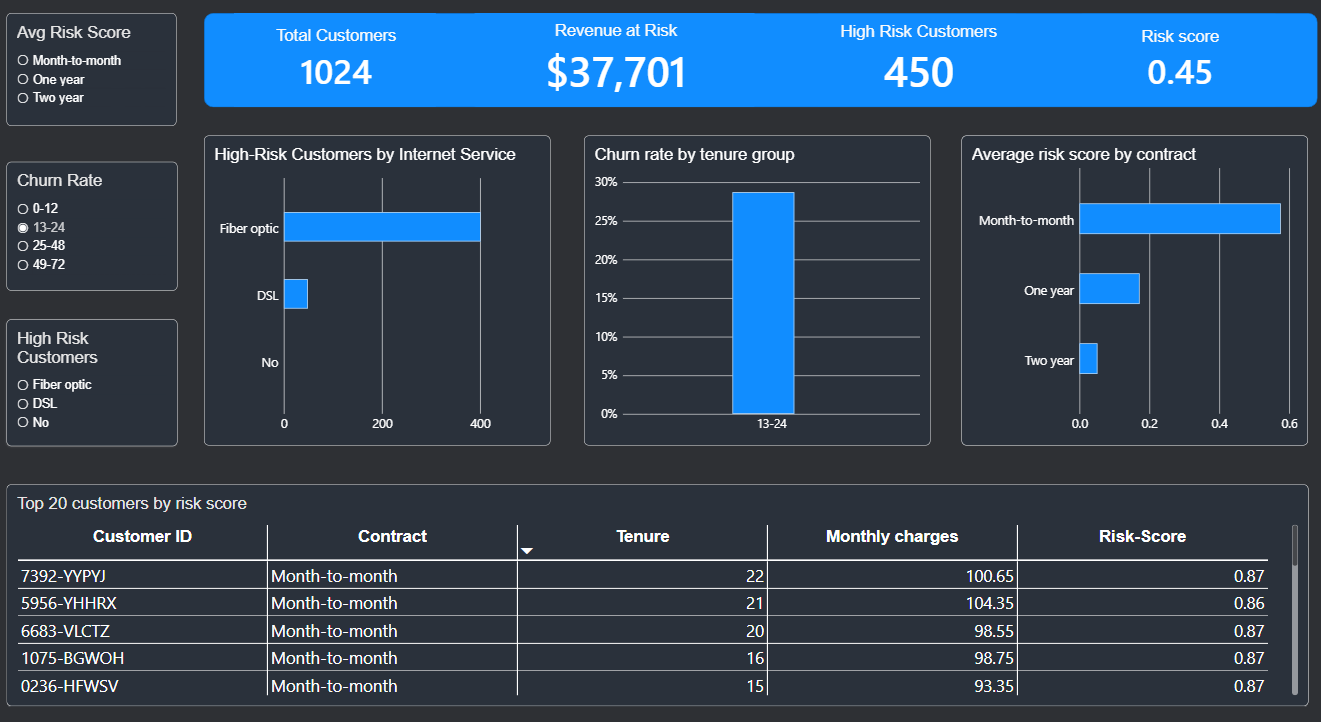

Layout of this report page (visuals, bound fields, positions):
{"tool":"powerbi","page":{"name":"customer-Churn-Prediction ","canvas":[3840,2160],"ordinal":0},"visuals":[{"type":"shape","box":[360,40,1781.8,150.9],"z":0},{"type":"clusteredBarChart","title":"Average risk score by contract","fields":{"Category":["predictions.Contract"],"Y":["predictions.Avg Risk Score"]},"box":[1572.7,236.4,554.5,496.4],"z":1000},{"type":"clusteredColumnChart","title":"Churn rate by tenure group","fields":{"Category":["predictions.tenure_group"],"Y":["predictions.Churn Rate"]},"box":[967.3,236.4,554.5,496.4],"z":2000},{"type":"barChart","title":"High-Risk Customers by Internet Service","fields":{"Category":["predictions.InternetService"],"Y":["predictions.High Risk Customers"]},"box":[360,236.4,554.5,496.4],"z":3000},{"type":"cardVisual","fields":{"Data":["predictions.Avg Risk Score"]},"box":[1758.2,40,323.6,150.9],"z":4000},{"type":"cardVisual","fields":{"Data":["predictions.Revenue at Risk"]},"box":[787.3,40,458.2,150.9],"z":5000},{"type":"listSlicer","title":"Avg Risk Score","fields":{"Values":["predictions.Contract"]},"box":[43.6,40,272,181],"z":6000},{"type":"listSlicer","title":"Churn Rate ","fields":{"Values":["predictions.tenure_group"]},"box":[43.6,278.2,273.3,206.7],"z":7000},{"type":"listSlicer","title":"High Risk Customers ","fields":{"Values":["predictions.InternetService"]},"box":[43.6,529.1,273.3,203.3],"z":8000},{"type":"tableEx","title":"Top 20 customers by risk score","fields":{"Values":["predictions.customerID","predictions.Contract","Sum(predictions.tenure)","Sum(predictions.MonthlyCharges)","Sum(predictions.risk_score)"]},"box":[43.6,794.5,2083.3,355],"z":9000},{"type":"cardVisual","fields":{"Data":["predictions.Total Customers"]},"box":[407.3,40,323.6,150.9],"z":10000},{"type":"cardVisual","fields":{"Data":["predictions.High Risk Customers"]},"box":[1336.4,40,330.9,150.9],"z":11000}]}

Visuals, with their boxes in screenshot pixels (x1, y1, x2, y2), scaled from the page's 3840x2160 canvas onto the 1321x722 screenshot:
shape: bbox=(124, 13, 737, 64)
"Average risk score by contract" clusteredBarChart: bbox=(541, 79, 732, 245)
"Churn rate by tenure group" clusteredColumnChart: bbox=(333, 79, 524, 245)
"High-Risk Customers by Internet Service" barChart: bbox=(124, 79, 315, 245)
cardVisual - predictions.Avg Risk Score: bbox=(605, 13, 716, 64)
cardVisual - predictions.Revenue at Risk: bbox=(271, 13, 428, 64)
"Avg Risk Score" listSlicer: bbox=(15, 13, 109, 74)
"Churn Rate " listSlicer: bbox=(15, 93, 109, 162)
"High Risk Customers " listSlicer: bbox=(15, 177, 109, 245)
"Top 20 customers by risk score" tableEx: bbox=(15, 266, 732, 384)
cardVisual - predictions.Total Customers: bbox=(140, 13, 251, 64)
cardVisual - predictions.High Risk Customers: bbox=(460, 13, 574, 64)
